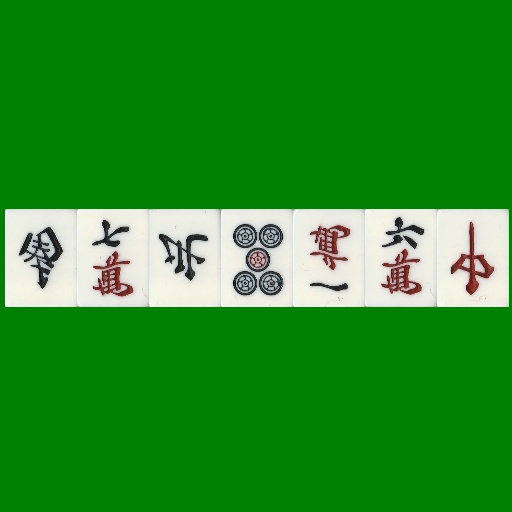1m: (293, 209, 365, 307)
5p: (221, 209, 293, 307)
6m: (365, 209, 437, 307)
7m: (77, 209, 149, 307)
north: (149, 209, 221, 307)
south: (5, 209, 77, 307)
tyun: (437, 209, 509, 307)
